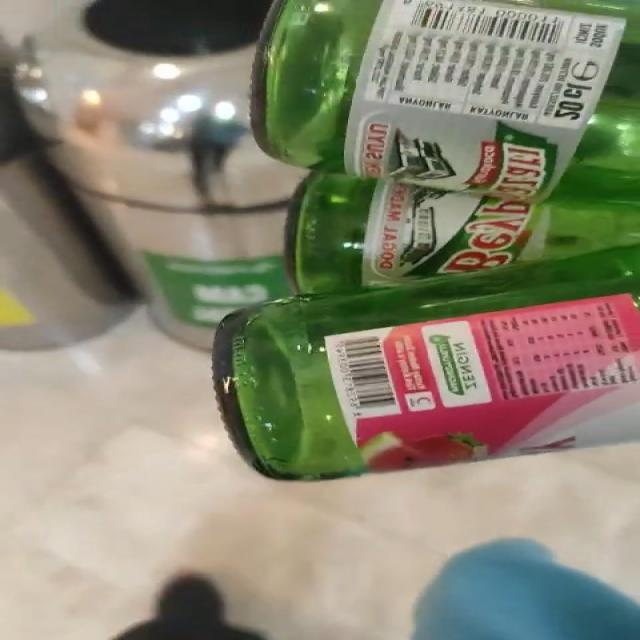glass: (213, 0, 639, 480)
